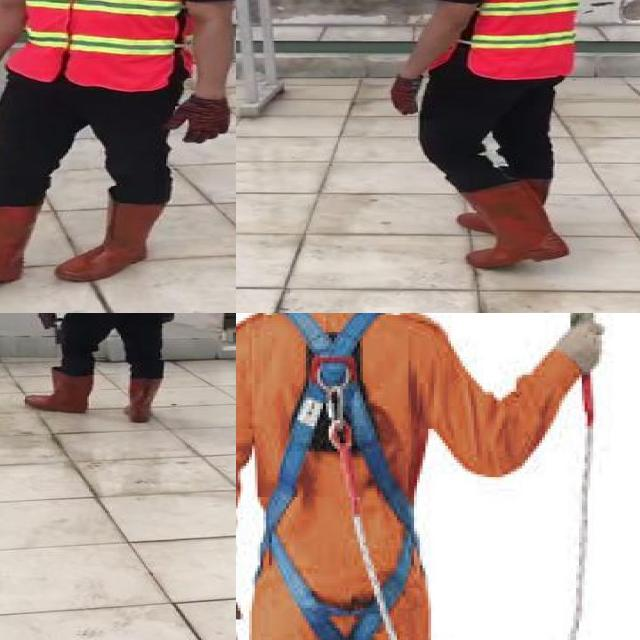Harness: (258, 313, 417, 640)
boots: (454, 181, 569, 270), (56, 200, 164, 284), (0, 206, 40, 298), (25, 368, 94, 414), (123, 379, 162, 422)
hand_glove: (164, 99, 230, 143), (389, 74, 422, 114), (37, 313, 60, 328), (163, 313, 176, 326)
person: (0, 0, 236, 305), (385, 0, 591, 270), (23, 313, 192, 422)
vest: (11, 0, 189, 91), (443, 0, 585, 79)
